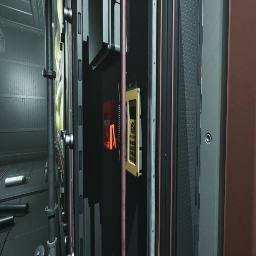0: (5, 175, 30, 187)
EmergencyPhone ,: (118, 72, 143, 178)
FireAlarm ,: (103, 99, 116, 152)
